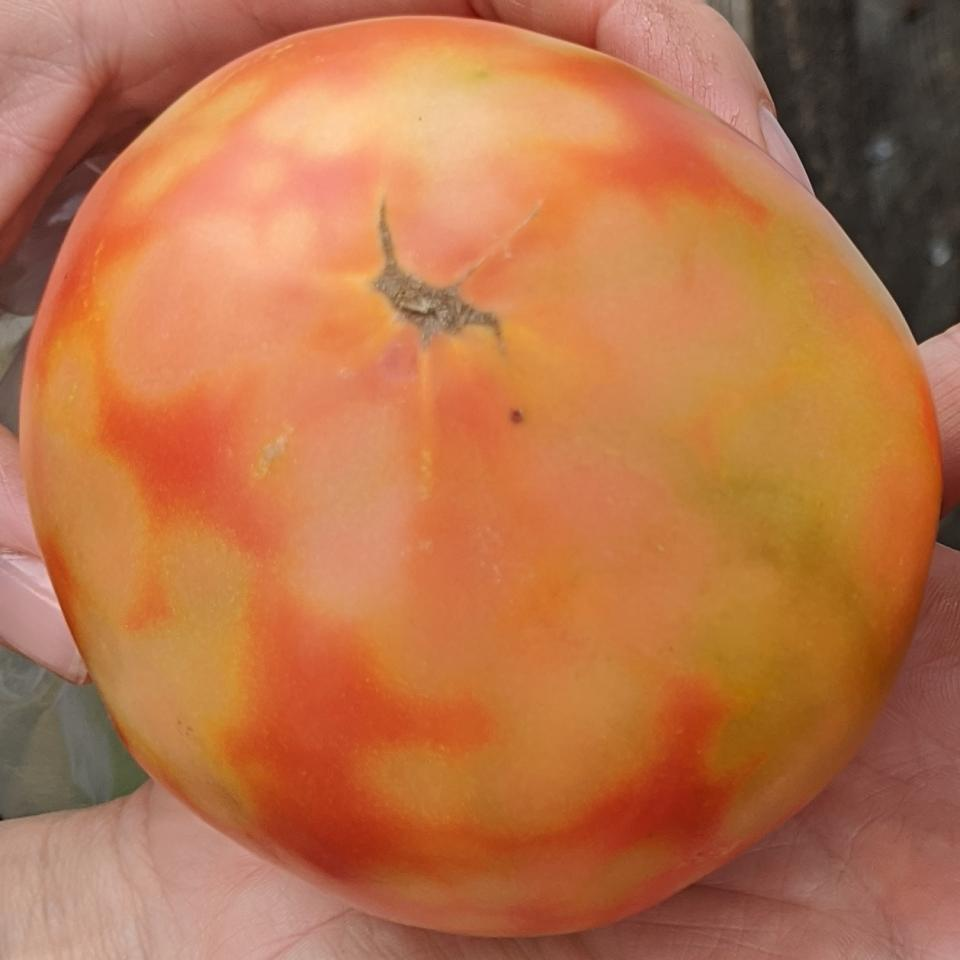Spotted wilt Virus: (21, 18, 941, 938)
